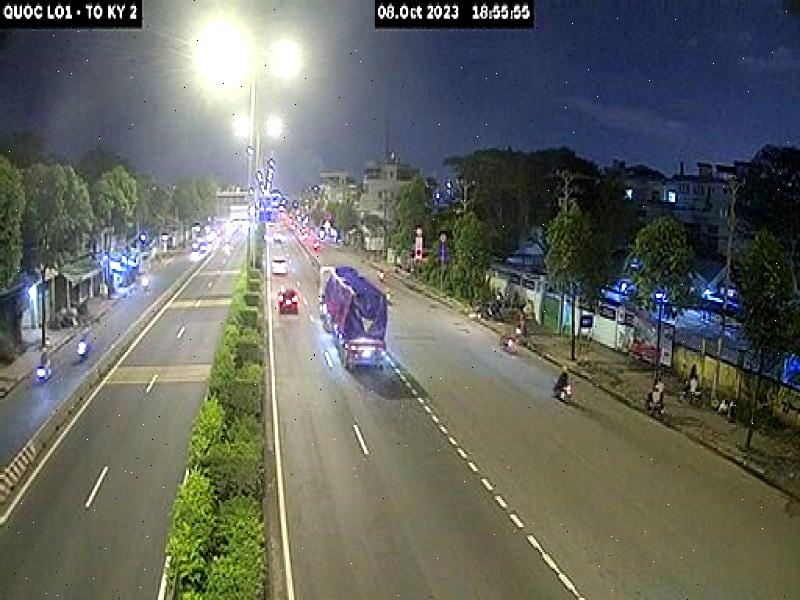truck: (314, 263, 396, 377)
